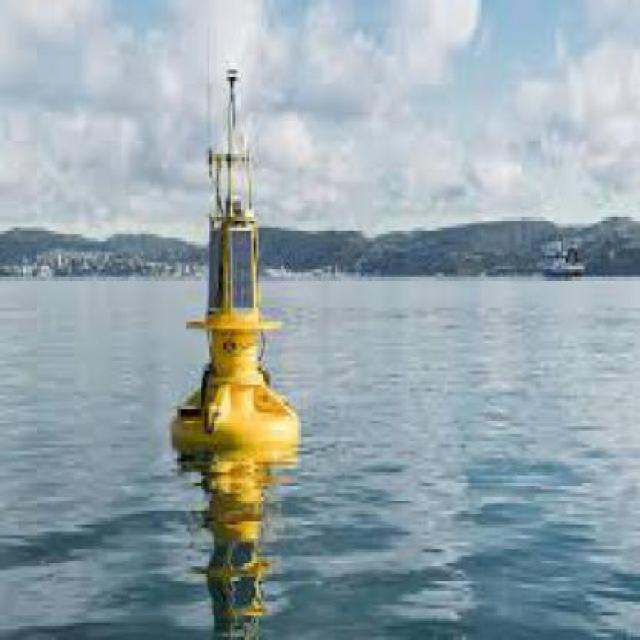buoy: (166, 26, 311, 512)
